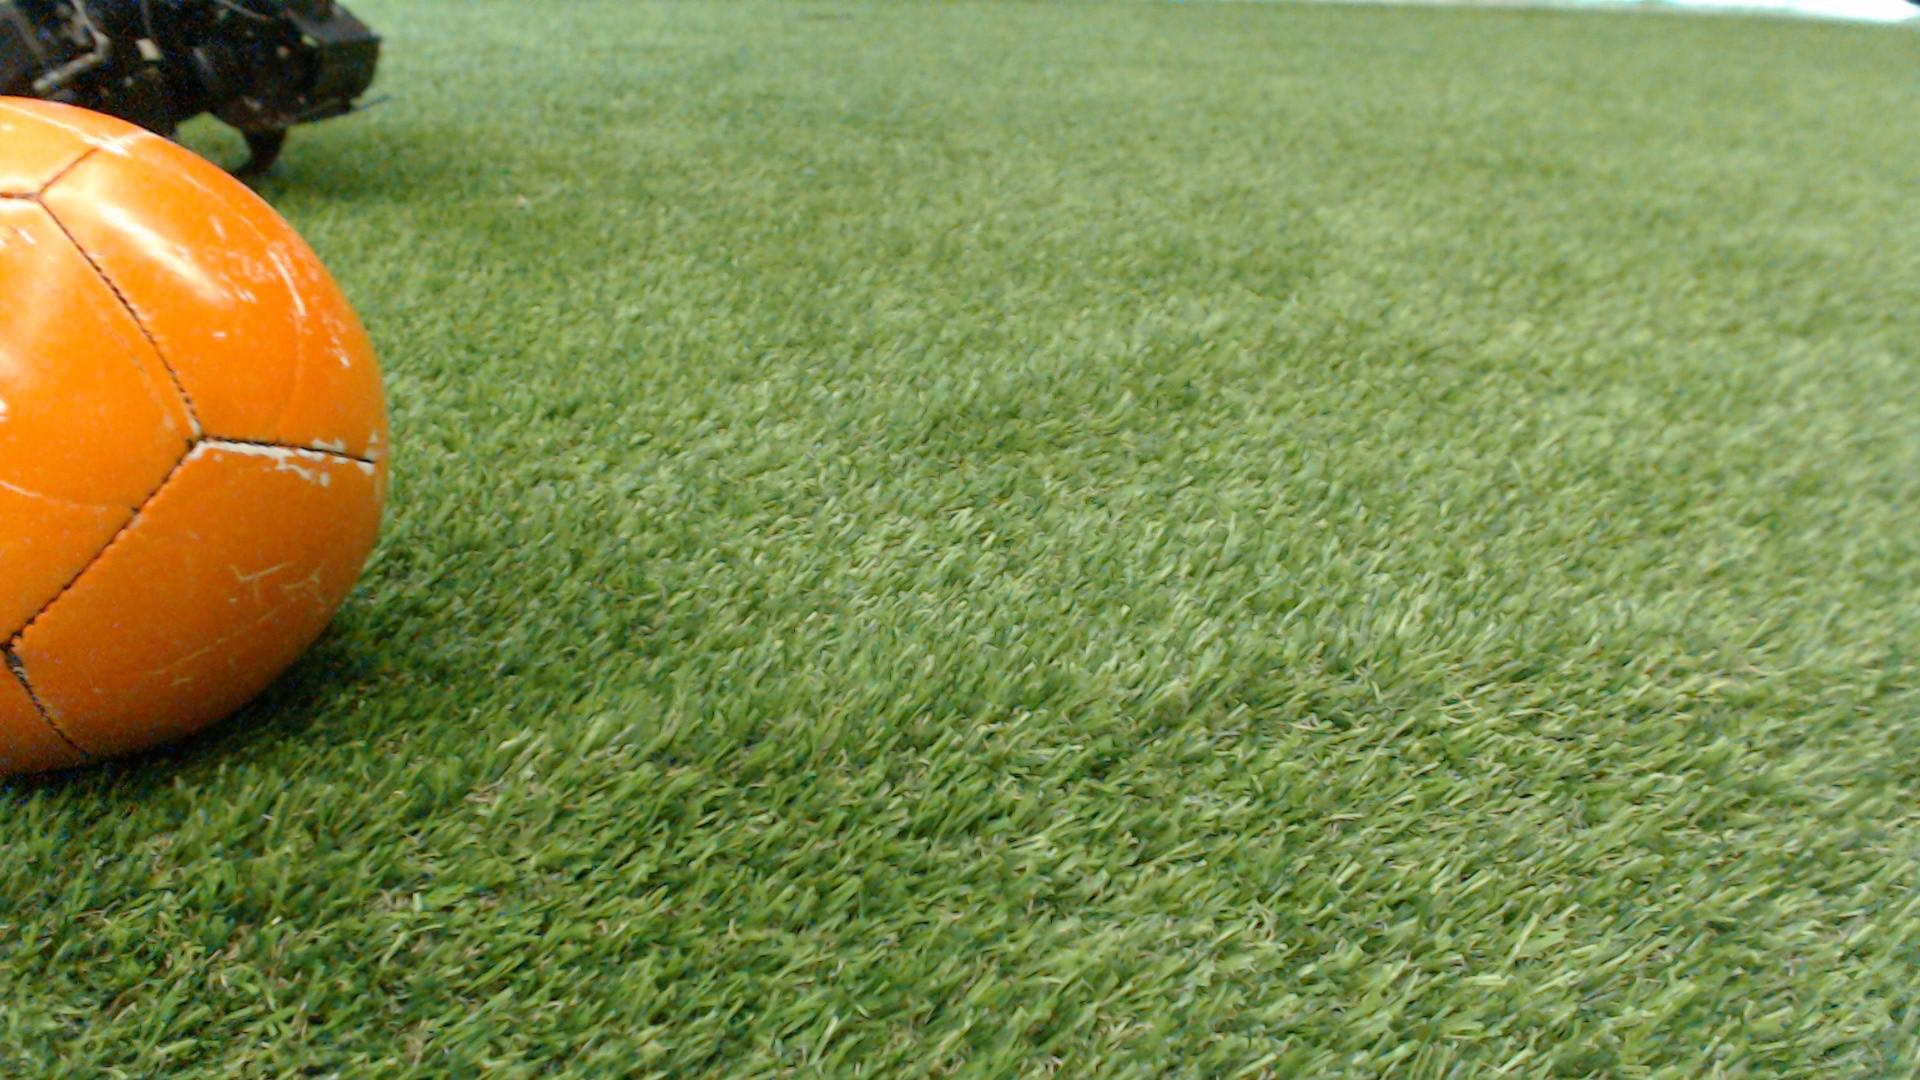bola: (0, 69, 450, 814)
